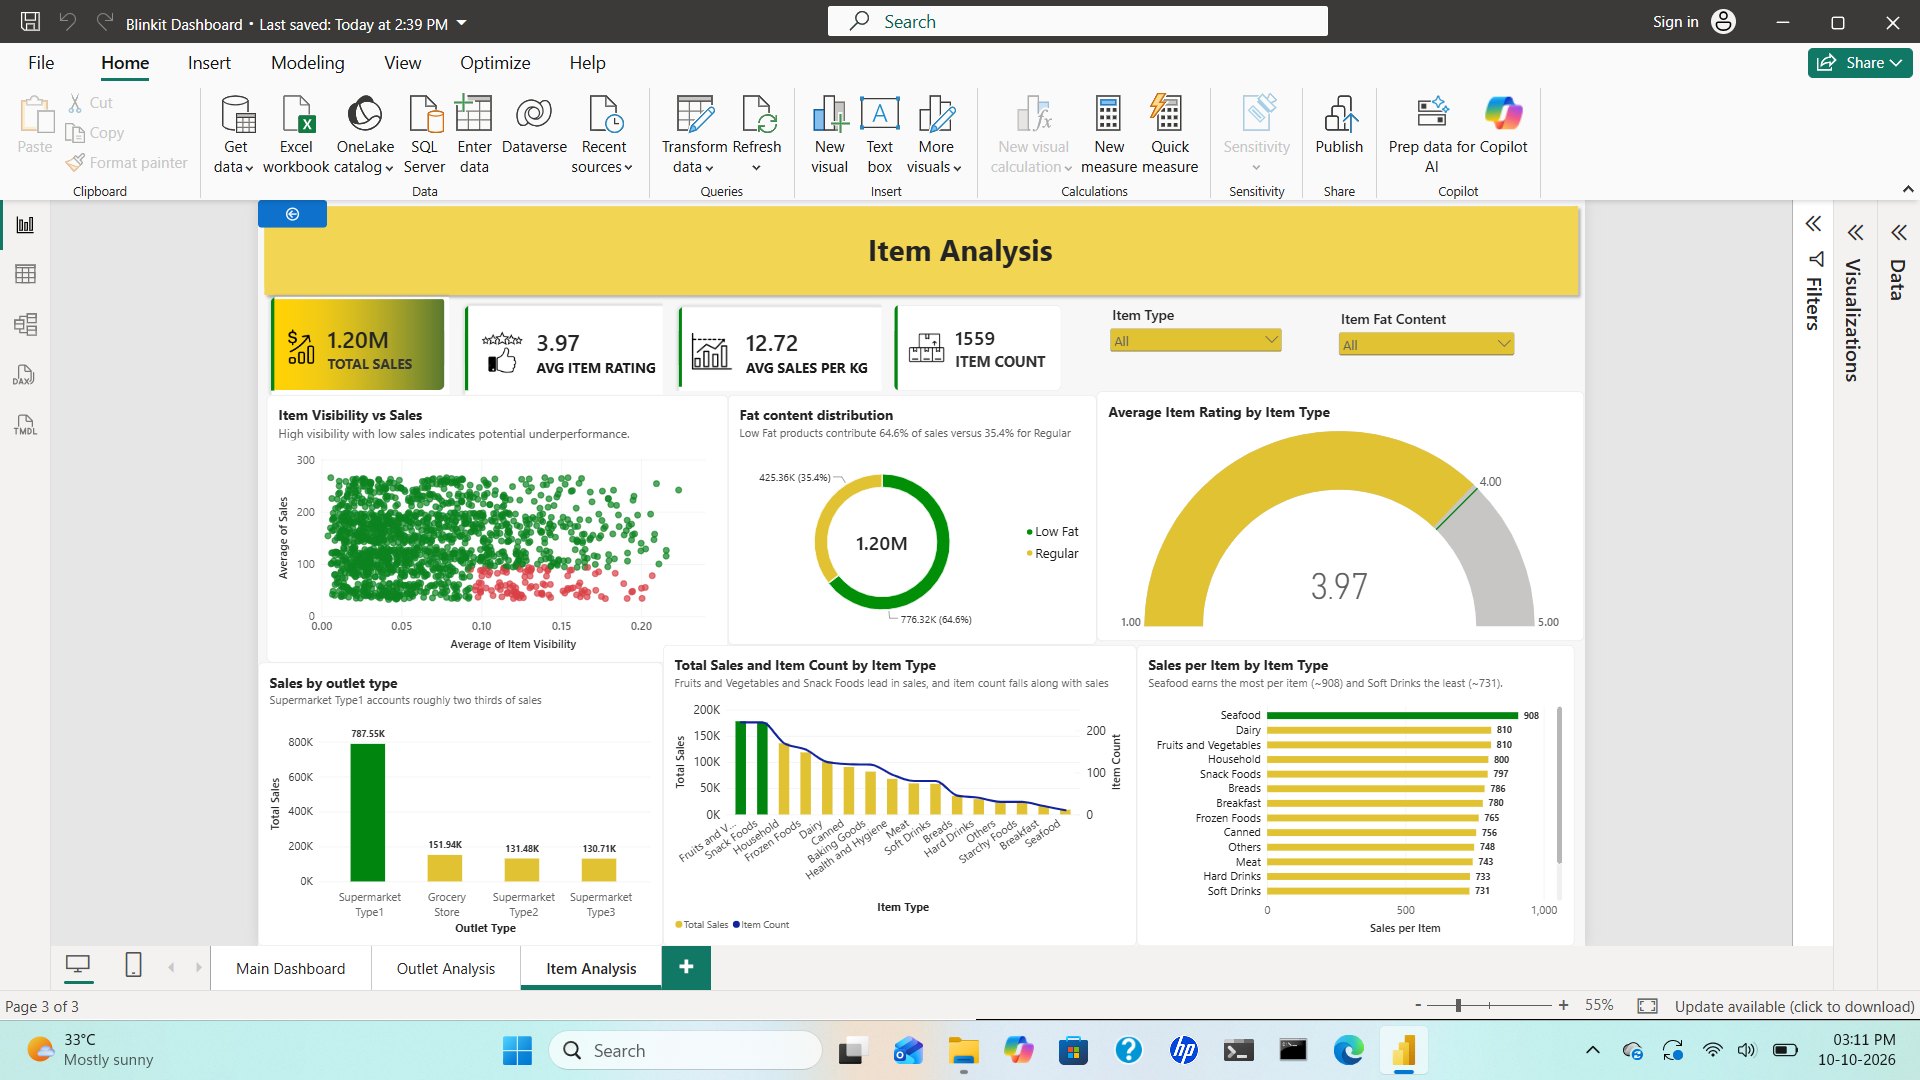

What the dashboard file says about the page in this screenshot:
{"tool":"powerbi","page":{"name":"Item Analysis","canvas":[1920,1080],"ordinal":2},"visuals":[{"type":"shape","box":[0,0,1920.1,146.6],"z":0},{"type":"cardVisual","fields":{"Data":["BlinkIT Grocery Data.Total Sales"]},"box":[12.7,133.9,264.2,148.4],"z":1000},{"type":"cardVisual","fields":{"Data":["BlinkIT Grocery Data.Average Item Rating"]},"box":[293.2,146.6,293.2,135.7],"z":2000},{"type":"textbox","box":[883.1,41.6,280.5,67],"z":3000},{"type":"cardVisual","fields":{"Data":["BlinkIT Grocery Data.Average Sales per Kg"]},"box":[602.6,148.4,300.4,128.5],"z":4000},{"type":"cardVisual","fields":{"Data":["BlinkIT Grocery Data.Item Count"]},"box":[921.1,152,242.5,124.9],"z":5000},{"type":"scatterChart","title":"Item Visibility vs Sales","fields":{"Category":["BlinkIT Grocery Data.Item Identifier"],"X":["Avg(BlinkIT Grocery Data.Item Visibility Clean)"],"Y":["Avg(BlinkIT Grocery Data.Sales)"]},"box":[12.7,282.3,667.8,387.3],"z":6000},{"type":"donutChart","title":"Fat content distribution","fields":{"Category":["Items Content.Item Fat Content"],"Y":["BlinkIT Grocery Data.Total Sales"]},"box":[680.4,282.3,533.8,361.9],"z":7000},{"type":"gauge","title":"Average Item Rating by Item Type","fields":{"TargetValue":["BlinkIT Grocery Data.Target"],"Y":["BlinkIT Grocery Data.Average Item Rating"]},"box":[1214.3,276.9,705.8,361.9],"z":8000},{"type":"clusteredColumnChart","title":"Sales by outlet type","fields":{"Category":["Outlet Info.Outlet Type"],"Y":["Sum(BlinkIT Grocery Data.Sales)"]},"box":[0,669.6,586.3,410.8],"z":9000},{"type":"lineClusteredColumnComboChart","title":"Total Sales and Item Count by Item Type","fields":{"Category":["Items.Item Type"],"Y":["BlinkIT Grocery Data.Total Sales"],"Y2":["BlinkIT Grocery Data.Item Count"]},"box":[586.3,644.2,685.9,436.1],"z":10000},{"type":"clusteredBarChart","title":"Sales per Item by Item Type","fields":{"Category":["Items.Item Type"],"Y":["BlinkIT Grocery Data.Sales per Item"]},"box":[1272.2,644.2,633.4,436.1],"z":11000},{"type":"actionButton","box":[0,0,100,40],"z":12000},{"type":"slicer","fields":{"Values":["Items.Item Type"]},"box":[1228.8,152,258.8,88.7],"z":13000},{"type":"slicer","fields":{"Values":["Items Content.Item Fat Content"]},"box":[1559.9,157.4,264.2,83.2],"z":14000}]}

Visuals, with their boxes on the page's 1920x1080 design canvas (x1, y1, x2, y2). These are canvas units, not pixel positions in the 1920x1080 screenshot, which may show the page scaled, cropped or inside an application window:
shape: select_region(0, 0, 1920, 147)
cardVisual - BlinkIT Grocery Data.Total Sales: select_region(13, 134, 277, 282)
cardVisual - BlinkIT Grocery Data.Average Item Rating: select_region(293, 147, 586, 282)
textbox: select_region(883, 42, 1164, 109)
cardVisual - BlinkIT Grocery Data.Average Sales per Kg: select_region(603, 148, 903, 277)
cardVisual - BlinkIT Grocery Data.Item Count: select_region(921, 152, 1164, 277)
"Item Visibility vs Sales" scatterChart: select_region(13, 282, 680, 670)
"Fat content distribution" donutChart: select_region(680, 282, 1214, 644)
"Average Item Rating by Item Type" gauge: select_region(1214, 277, 1920, 639)
"Sales by outlet type" clusteredColumnChart: select_region(0, 670, 586, 1080)
"Total Sales and Item Count by Item Type" lineClusteredColumnComboChart: select_region(586, 644, 1272, 1080)
"Sales per Item by Item Type" clusteredBarChart: select_region(1272, 644, 1906, 1080)
actionButton: select_region(0, 0, 100, 40)
slicer - Items.Item Type: select_region(1229, 152, 1488, 241)
slicer - Items Content.Item Fat Content: select_region(1560, 157, 1824, 241)
